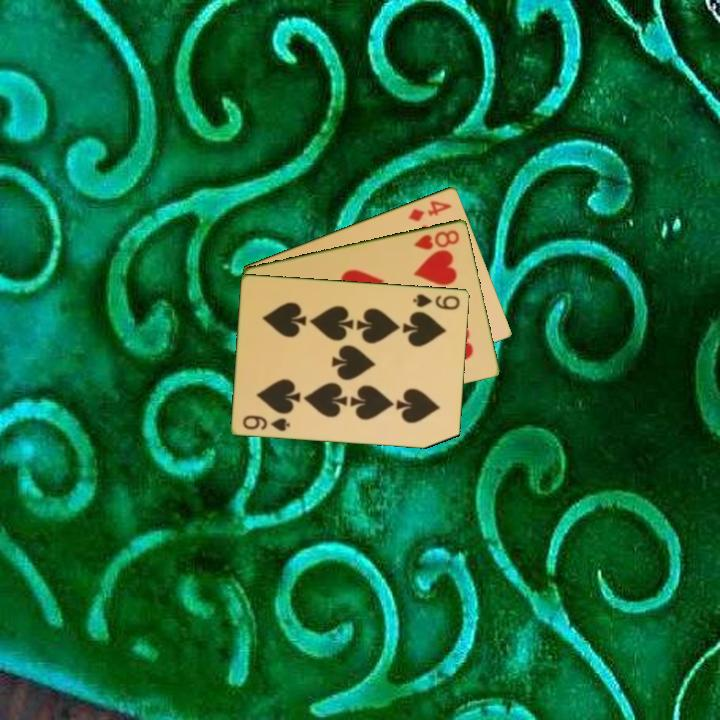4d: (405, 197, 455, 224)
8h: (411, 226, 462, 252)
9s: (239, 411, 293, 434), (410, 290, 463, 313)
